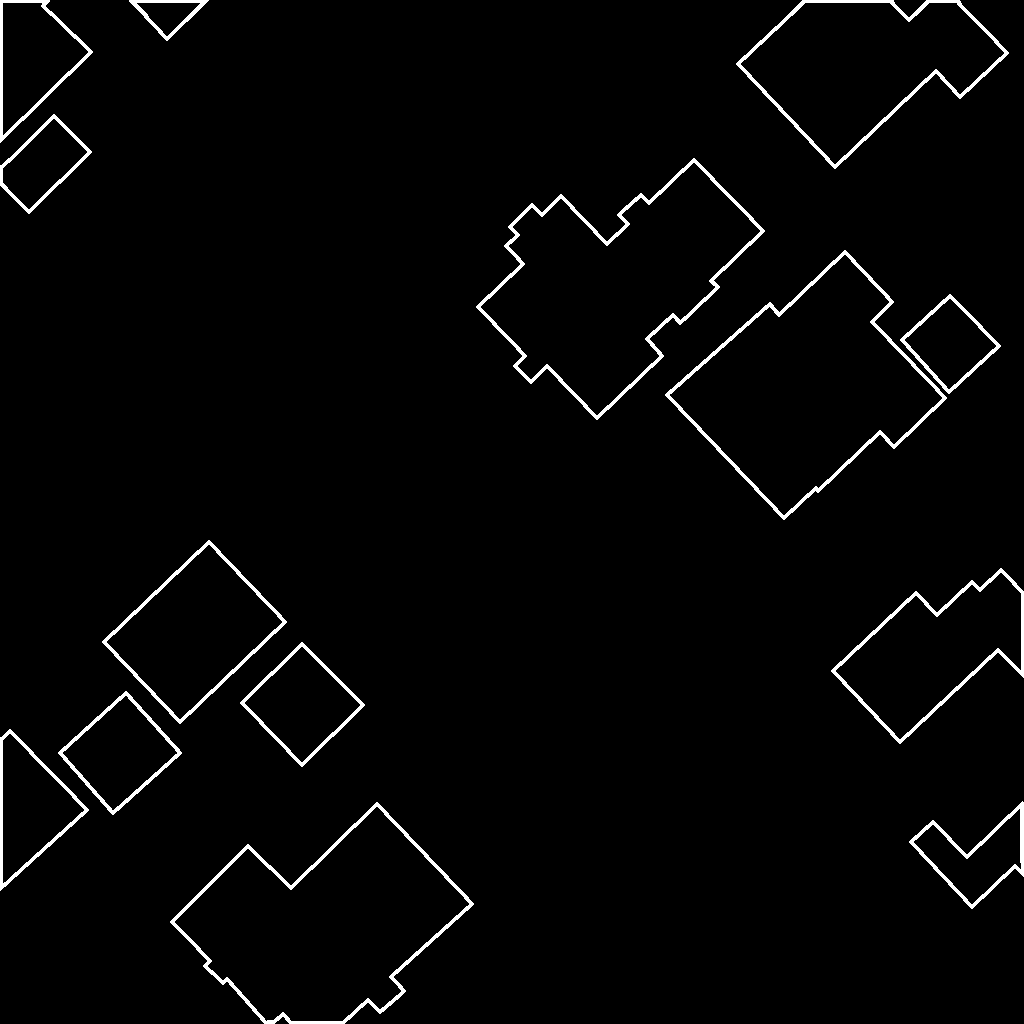building: (667, 252, 946, 519), (478, 160, 764, 419), (172, 804, 473, 1024), (738, 0, 1008, 168), (833, 570, 1024, 743), (104, 542, 286, 723), (242, 644, 364, 766), (60, 693, 181, 814), (0, 731, 88, 890), (0, 0, 92, 142), (911, 803, 1024, 908), (902, 296, 1000, 393), (0, 116, 91, 213), (130, 0, 208, 40)
